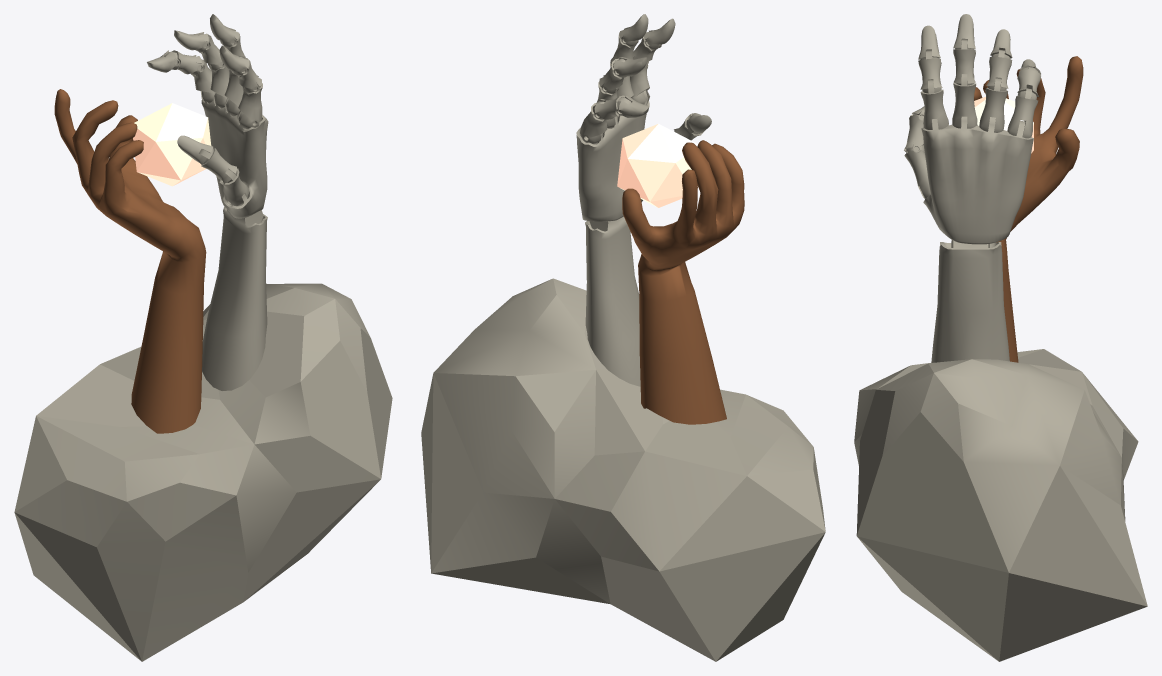
File: Statue.fbx
3 renders of one model, left to right at view 1: azimuth 30°, elevation 25°; view 2: azimuth 150°, elevation 25°; view 3: azimuth 270°, elevation 25°, orthographic. The views are drawn at different scales.
Visible parts, largest first — view 1: Stone, Hand2, Hand1, Logo; view 2: Stone, Hand1, Hand2, Logo; view 3: Stone, Hand2, Hand1, Logo.
Part boxes in pixels (<box>): Stone: <box>14,283,392,661</box>; Hand2: <box>147,14,268,390</box>; Hand1: <box>54,89,206,433</box>; Logo: <box>133,103,211,186</box>; Stone: <box>421,278,825,661</box>; Hand1: <box>622,140,744,424</box>; Hand2: <box>576,14,711,386</box>; Logo: <box>617,123,697,207</box>; Stone: <box>854,349,1147,661</box>; Hand2: <box>904,14,1040,362</box>; Hand1: <box>974,56,1083,362</box>; Logo: <box>974,96,1033,153</box>.
Bounding box in the file's own units: 1369 × 2008 × 872.
